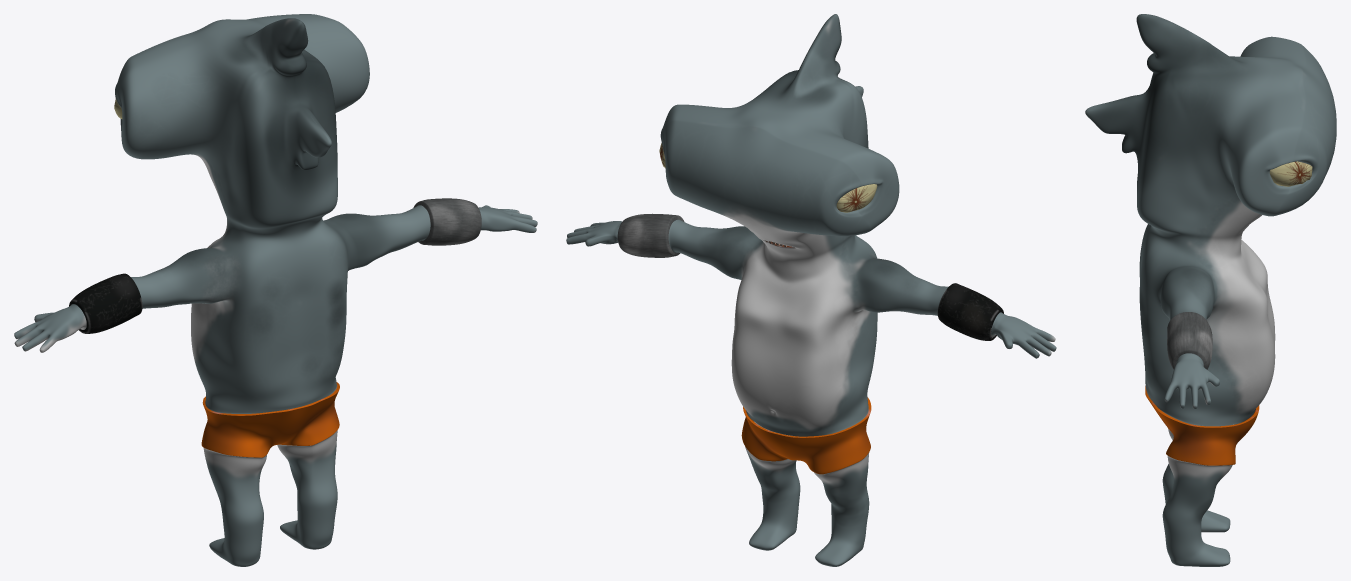
The model's file is Shammerk_Retopped.fbx.
3 views of the same model, side by side, from view 1: azimuth 30°, elevation 25°; view 2: azimuth 150°, elevation 25°; view 3: azimuth 270°, elevation 25° (orthographic). The views are drawn at different scales.
Visible parts, largest first — view 1: Shammerk_Body, Shammerk_Short, Shammerk_foreArm.R, Shammerk_foreArm.L; view 2: Shammerk_Body, Shammerk_Short, Shammerk_foreArm.R, Shammerk_foreArm.L, OjoR; view 3: Shammerk_Body, Shammerk_Short, Shammerk_foreArm.L, Ojo.L.
Part boxes in pixels (bbox=[...]): Shammerk_Body: bbox=[14, 14, 537, 566]; Shammerk_Short: bbox=[201, 382, 339, 457]; Shammerk_foreArm.R: bbox=[69, 273, 142, 333]; Shammerk_foreArm.L: bbox=[413, 198, 481, 245]; Shammerk_Body: bbox=[566, 14, 1056, 566]; Shammerk_Short: bbox=[741, 397, 871, 474]; Shammerk_foreArm.R: bbox=[937, 283, 1003, 340]; Shammerk_foreArm.L: bbox=[617, 213, 684, 257]; OjoR: bbox=[836, 184, 877, 212]; Shammerk_Body: bbox=[1085, 14, 1336, 566]; Shammerk_Short: bbox=[1145, 386, 1259, 465]; Shammerk_foreArm.L: bbox=[1167, 312, 1212, 369]; Ojo.L: bbox=[1269, 161, 1312, 186].
Bounding box in the file's own units: 105 × 107 × 45.74.
